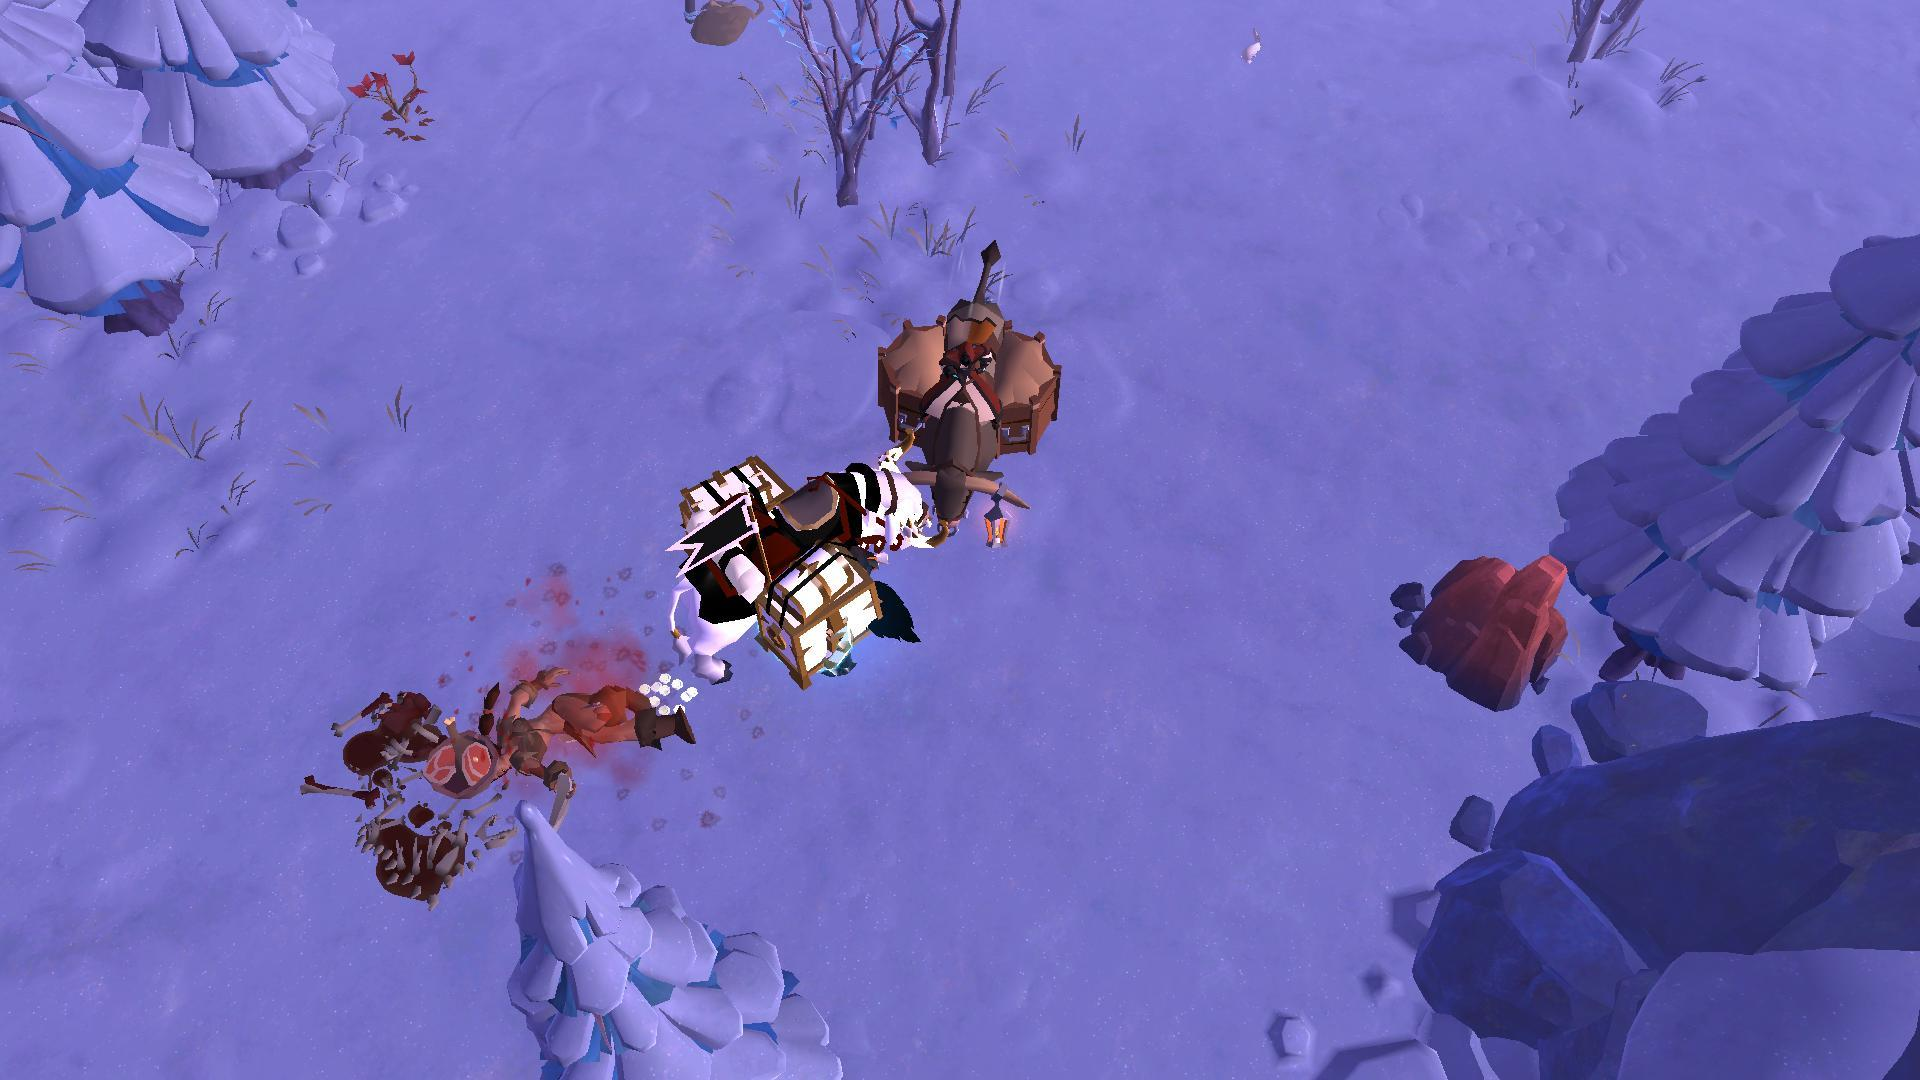rock_t5: (1403, 538, 1572, 709)
